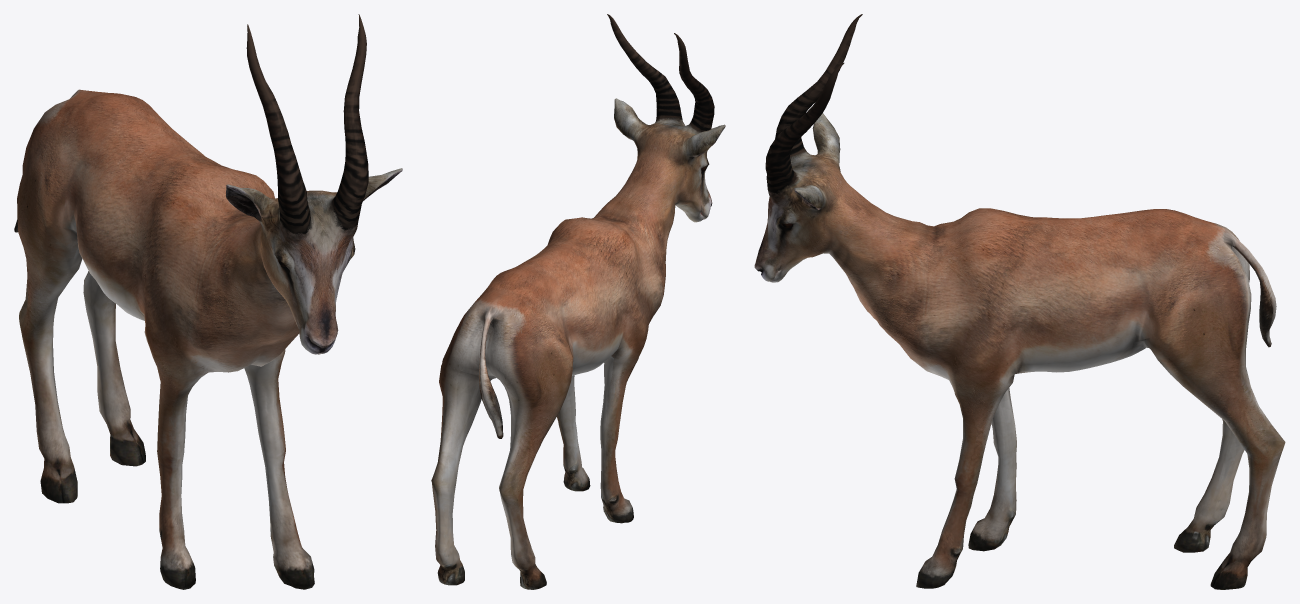
The model's file is gazelle.glb.
3 renders of one model, left to right at view 1: azimuth 30°, elevation 25°; view 2: azimuth 150°, elevation 25°; view 3: azimuth 270°, elevation 25°, orthographic. The views are drawn at different scales.
Visible parts, largest first — view 1: Gazelle_HP_0; view 2: Gazelle_HP_0; view 3: Gazelle_HP_0.
Part boxes in pixels (x1,y1,x2,y2): Gazelle_HP_0: [14, 14, 402, 589]; Gazelle_HP_0: [431, 14, 725, 589]; Gazelle_HP_0: [754, 14, 1285, 589].
Size of the model in its own units: 0.0584 by 0.2097 by 0.1888.
Materials: 1 (1 with a texture image).
